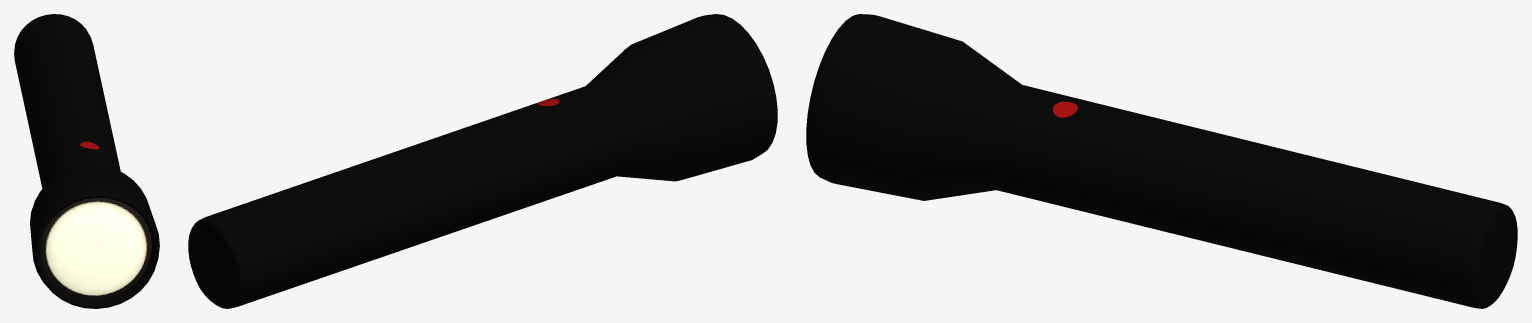
Rendered from flashlight_prop.glb.
3 renders of one model, left to right at view 1: azimuth 30°, elevation 25°; view 2: azimuth 150°, elevation 25°; view 3: azimuth 270°, elevation 25°, orthographic. The views are drawn at different scales.
Parts seen in each view (by area): view 1: Flashlight_v2.003; view 2: Flashlight_v2.003; view 3: Flashlight_v2.003.
Part boxes in pixels (x1,y1,x2,y2): Flashlight_v2.003: (14, 14, 159, 308); Flashlight_v2.003: (188, 14, 777, 308); Flashlight_v2.003: (806, 14, 1517, 308).
Bounding box in the file's own units: 0.1871 × 0.0753 × 0.3078.
1 material, 1 textured.
